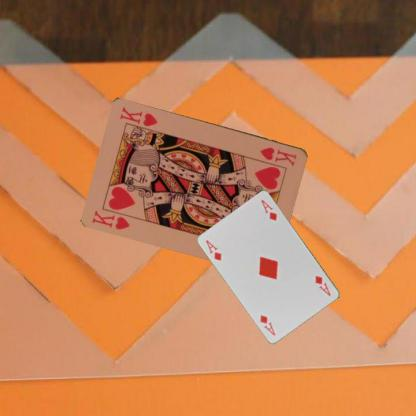Ad: (203, 237, 223, 262), (313, 273, 332, 297)
Kh: (90, 208, 134, 231), (258, 144, 298, 167)
